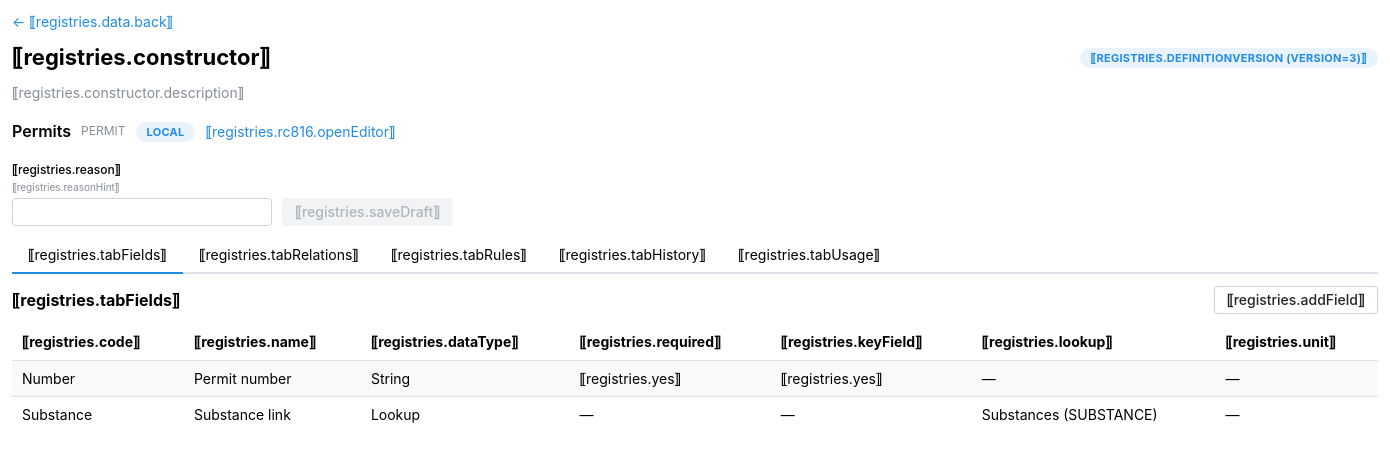
RegistryConstructorPage: вкладка «Зв'язки» й право на опис › з правом Registry.EditDefinition — вибір цілі зв'язку є
Expected: the text "Permit number" is shown, [184,360,361,397]
What coordinates should you click on to do the following:
click the tab "⟦registries.tabRelations⟧"
I would click on:
 (279, 256)
Its box is [183,238,375,274].
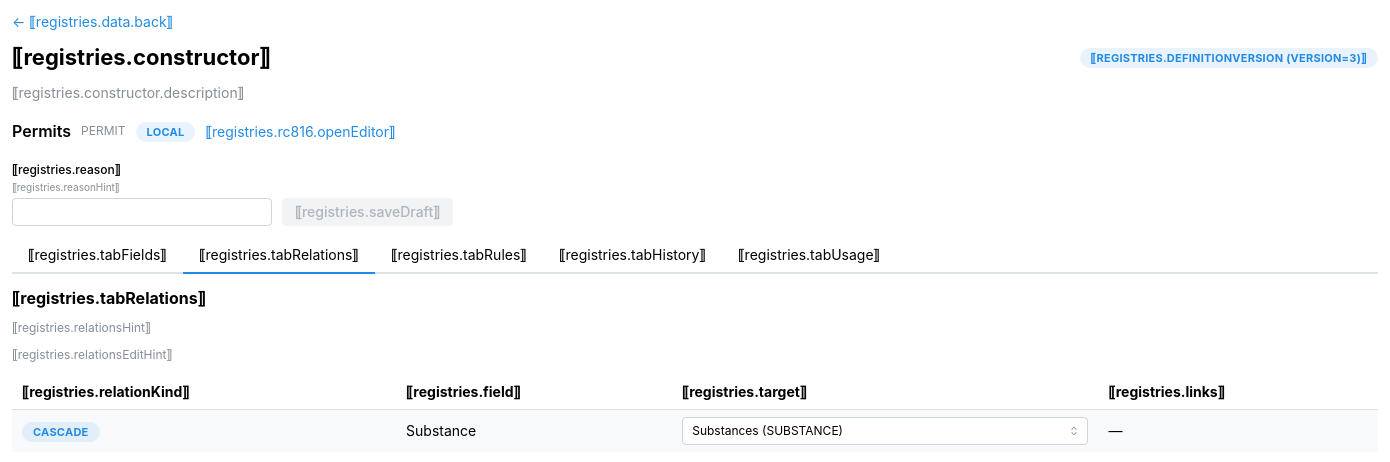
Result: the dropdown is shown at [682,417,1088,445]
